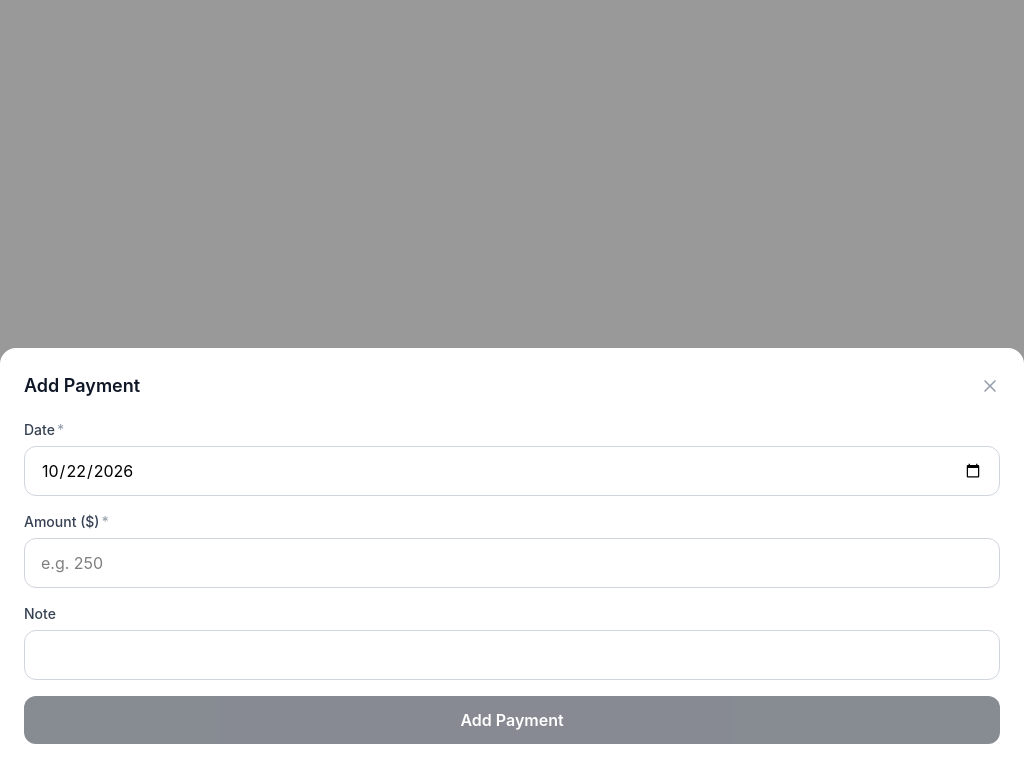
it: LedgerEntrySheet › strips anything but digits and dots while typing
Type "$1,250.50" into the field labelled "Amount ($)".
click(512, 563); type("$1,250.50")  # box [24,538,1000,588]
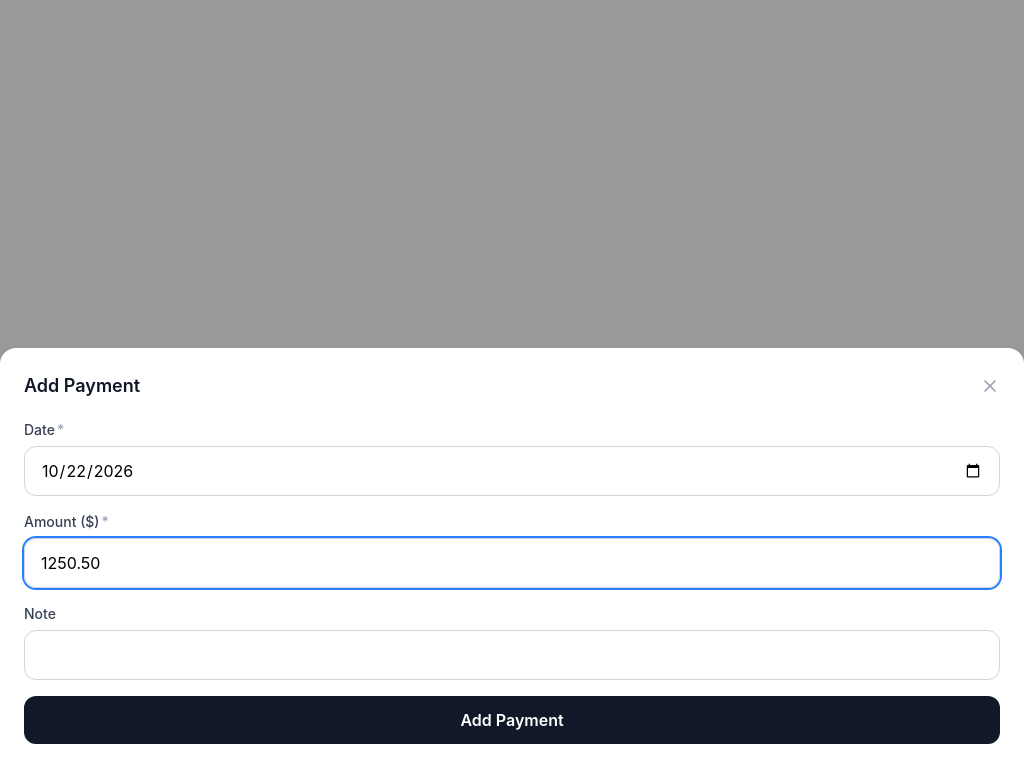
Check: the field labelled "Amount ($)" holds "1250.50", box [24,538,1000,588]
